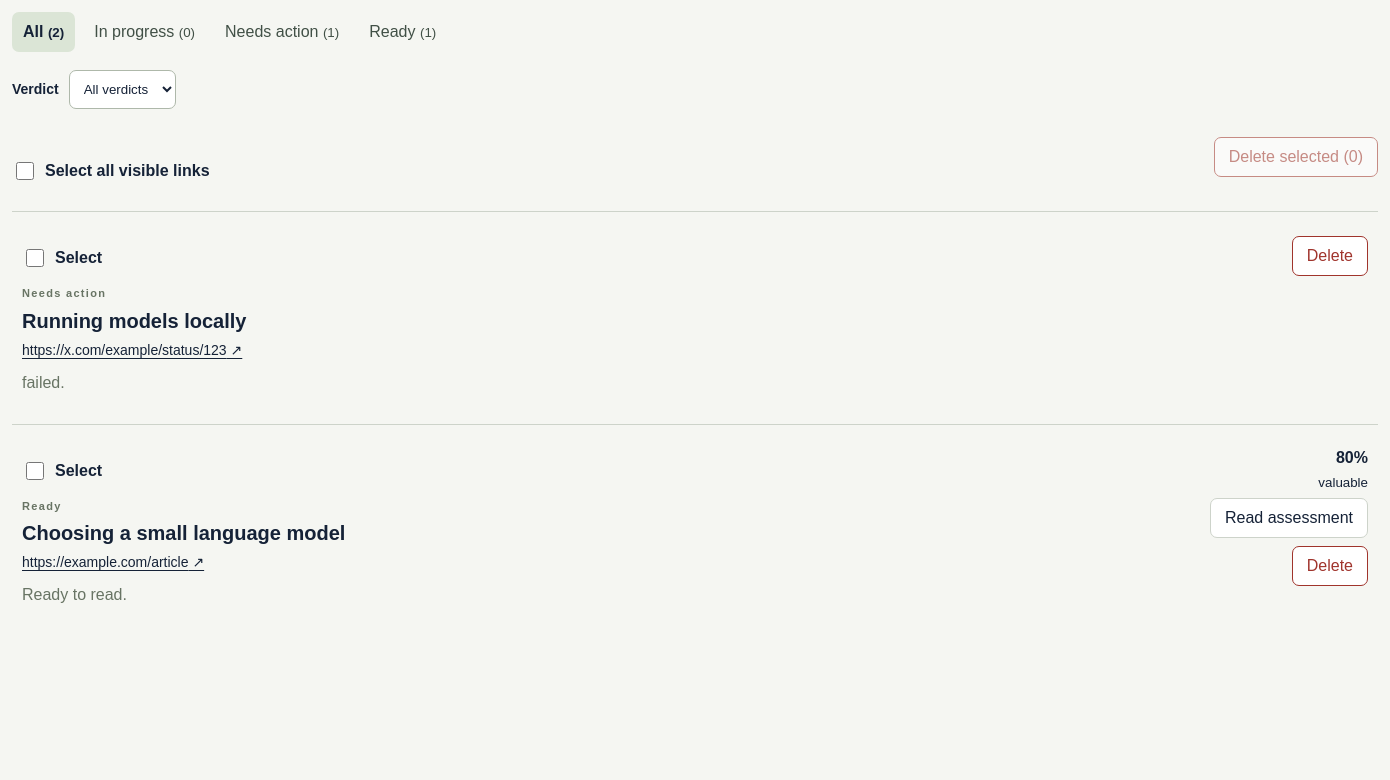
it: shows topic headings and clickable original URLs in Needs action and Ready
Click the button "Needs action (1)".
click(282, 32)  # box [214, 12, 350, 52]
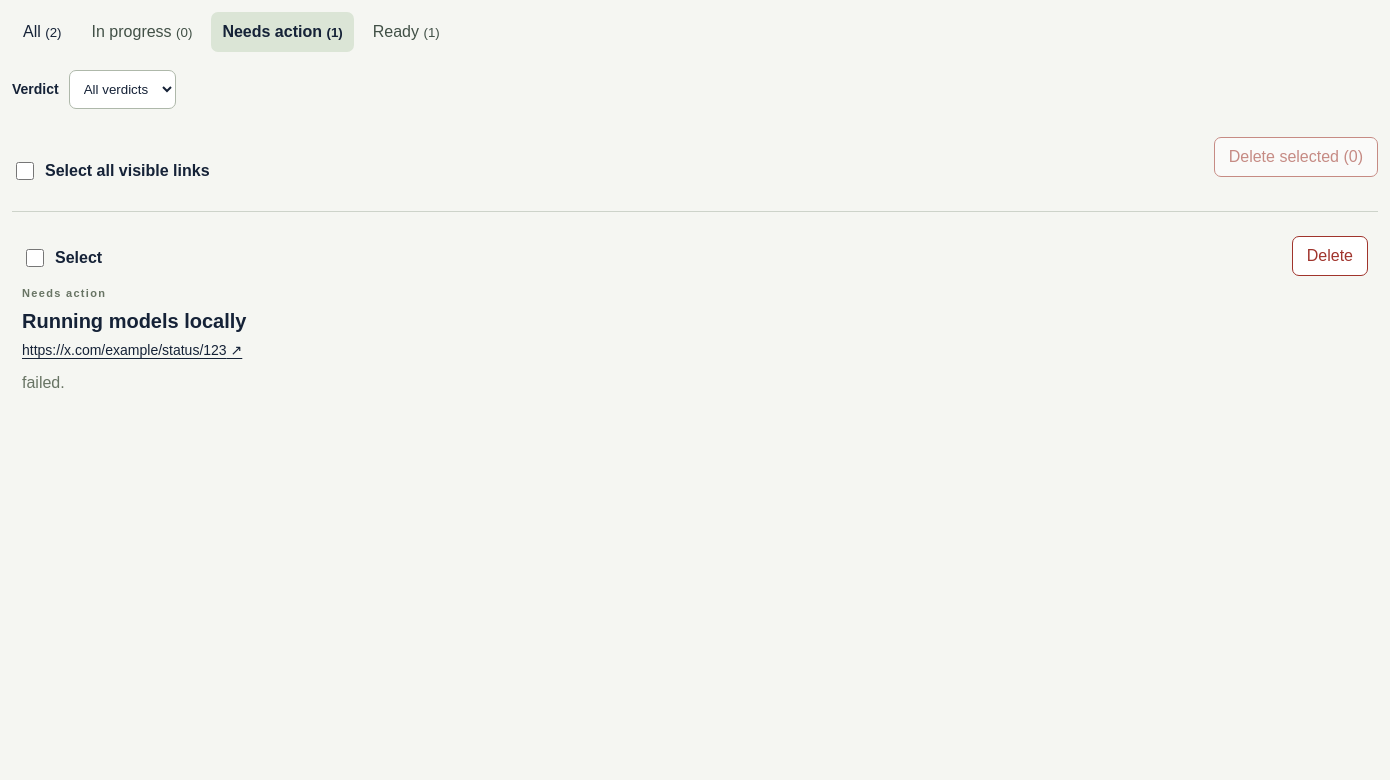
Expected: the heading "Running models locally" is shown, [22, 308, 246, 334]
Click the button "Ready (1)".
click(406, 32)  # box [362, 12, 451, 52]
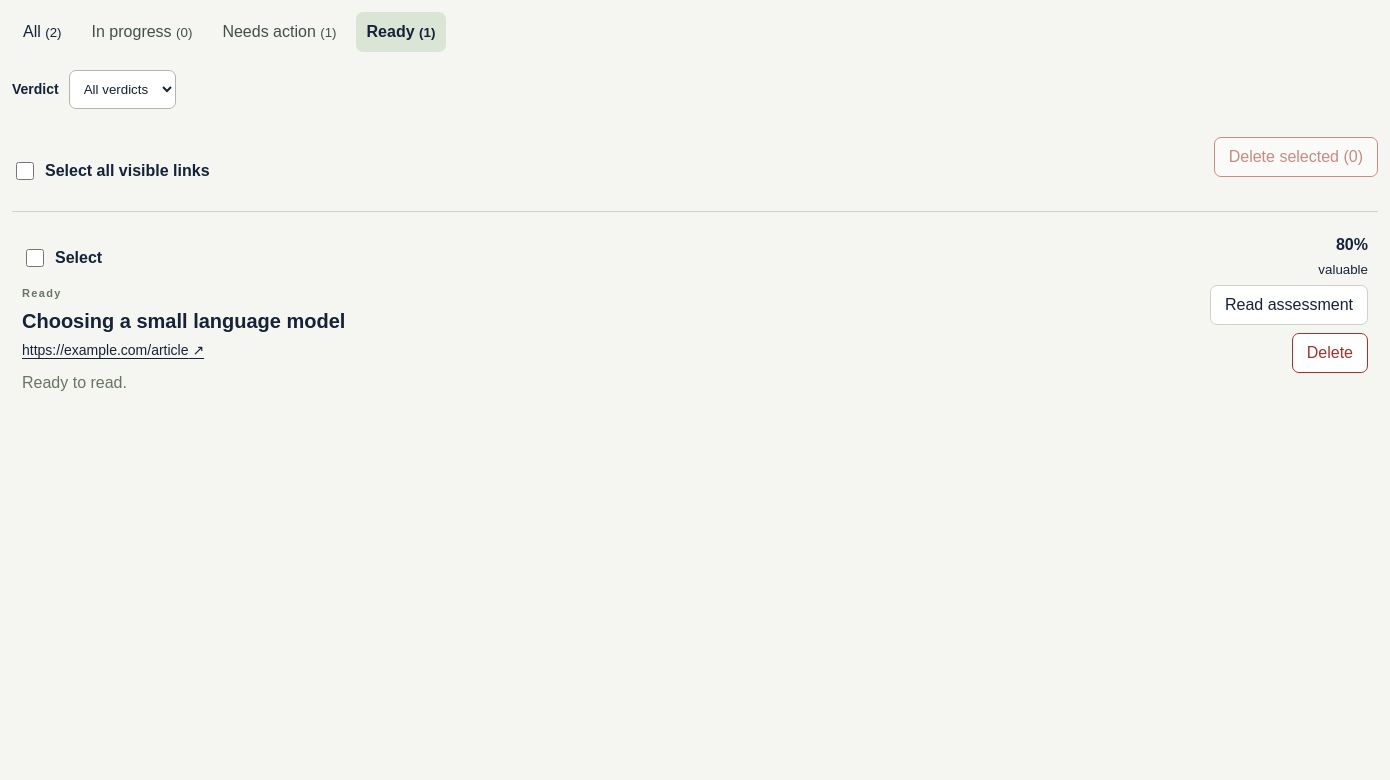
Now the heading "Choosing a small language model" is shown, box [22, 308, 345, 334]
